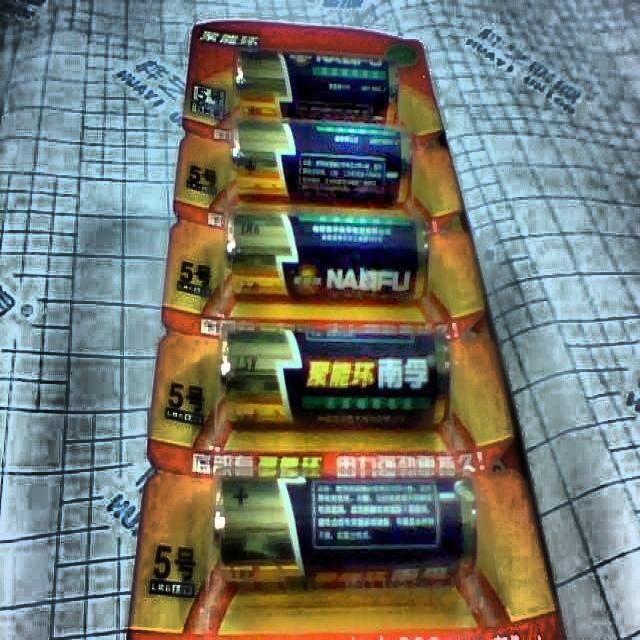Non-Valuable Waste - Batteries: (214, 478, 476, 583), (220, 326, 450, 428), (226, 208, 429, 303), (231, 119, 412, 205), (236, 51, 398, 122)
